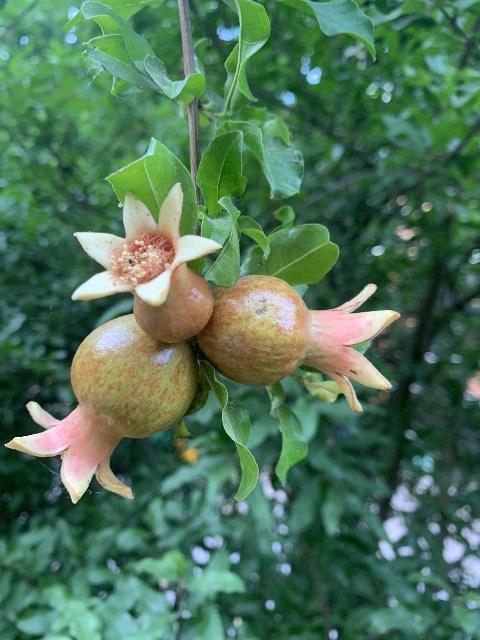early-fruit: (4, 317, 199, 504), (198, 274, 400, 413), (71, 182, 220, 341)
